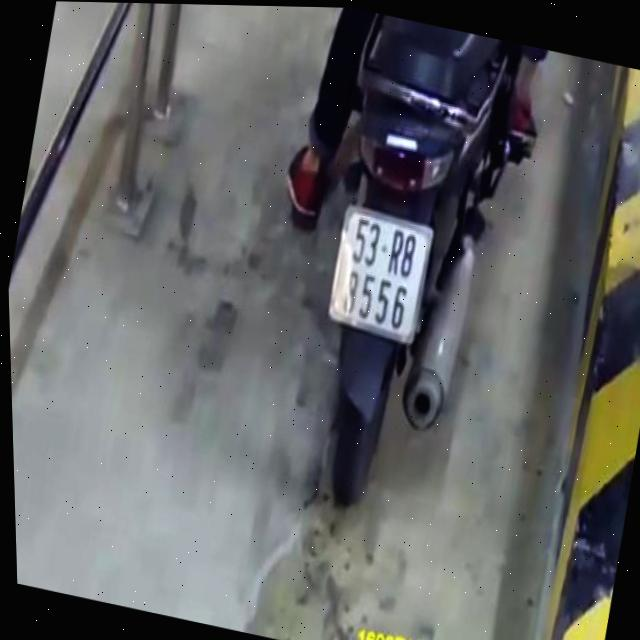motorcycle: (267, 8, 545, 544)
plate: (318, 202, 441, 351)
